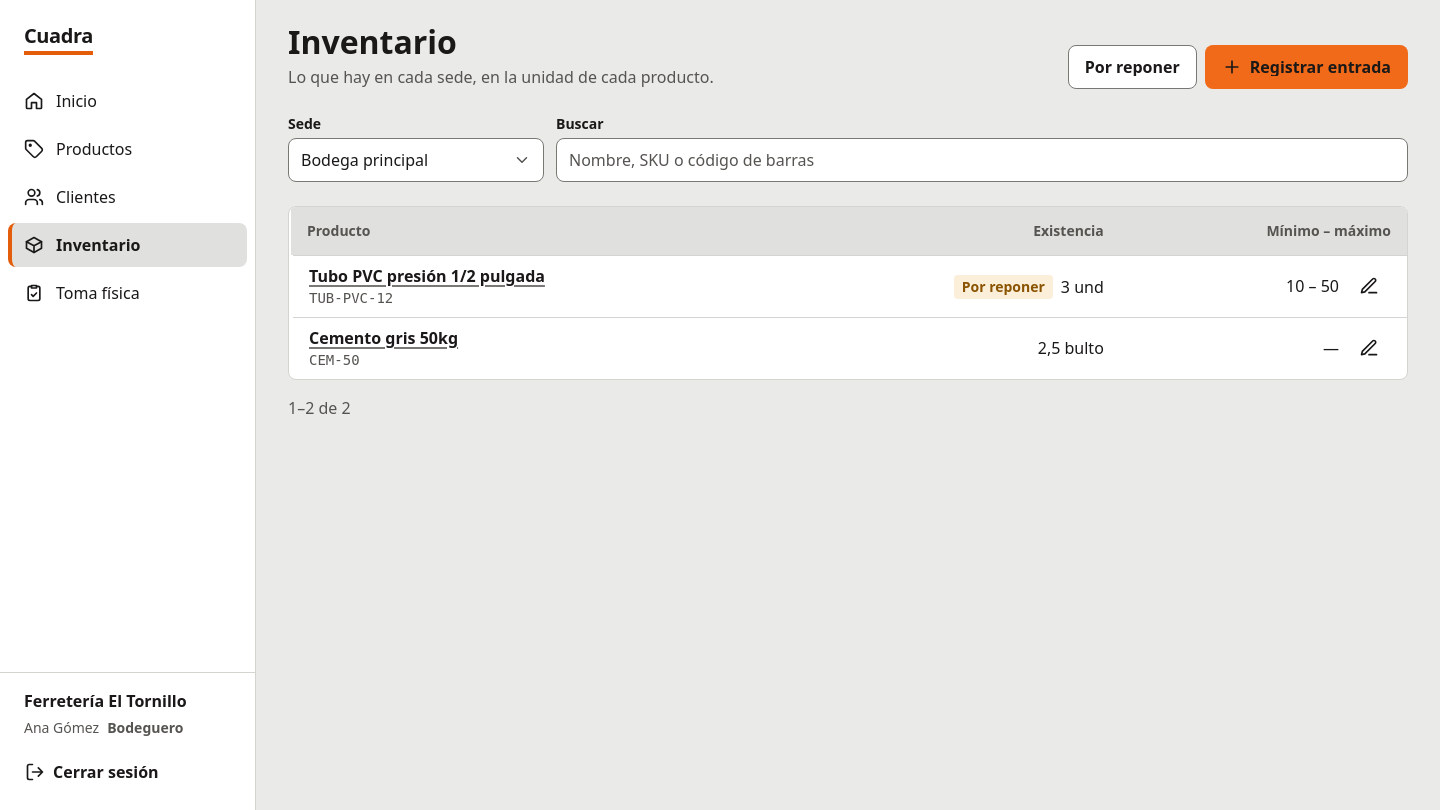
StockPage: stock mínimo y máximo › define el mínimo y el máximo de una variante con coma decimal
Click the button named "Mínimo y máximo de Cemento gris 50kg" at (1369, 348), box [1347, 326, 1391, 370]
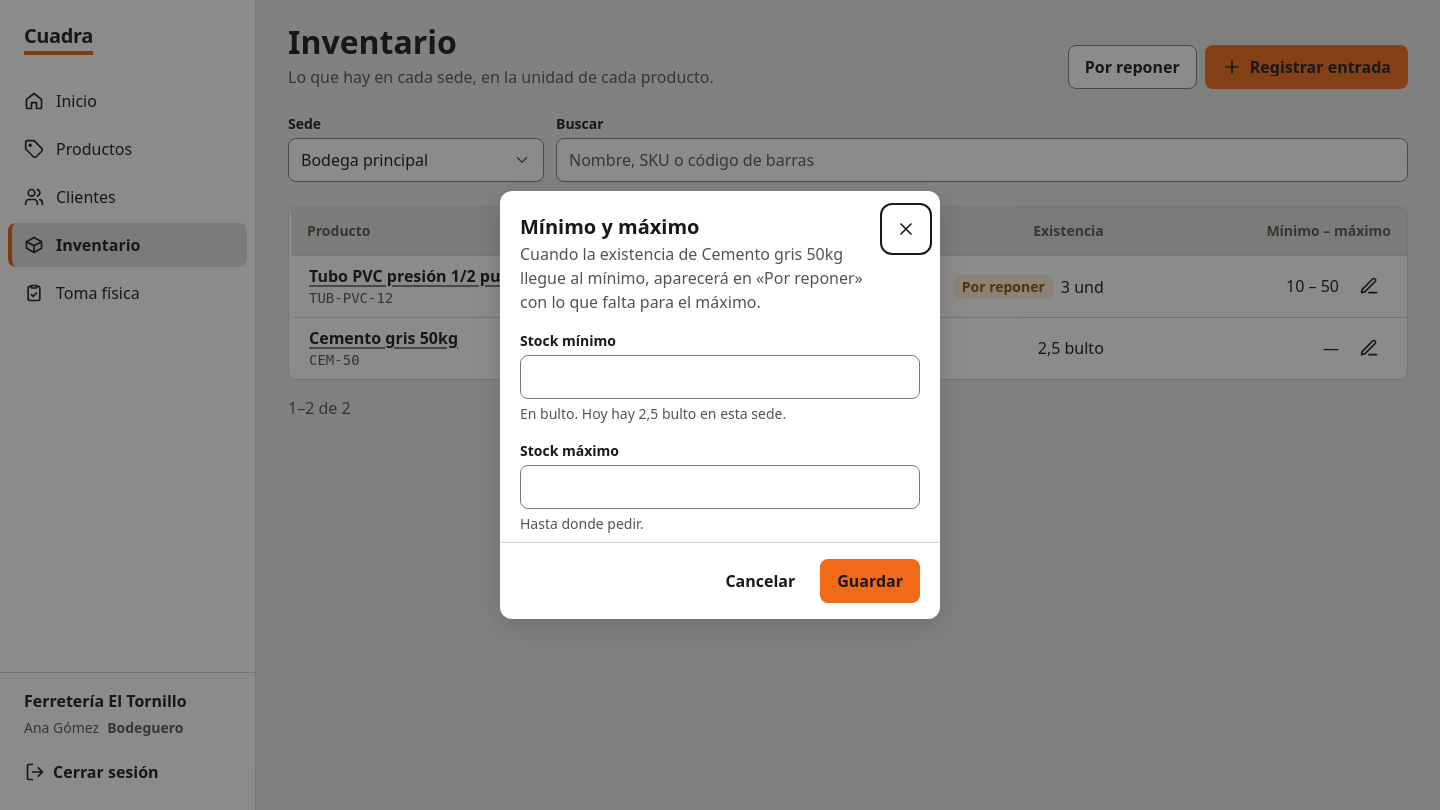
Type "5" into the field labelled "Stock mínimo" at (720, 377), box [520, 355, 920, 399]
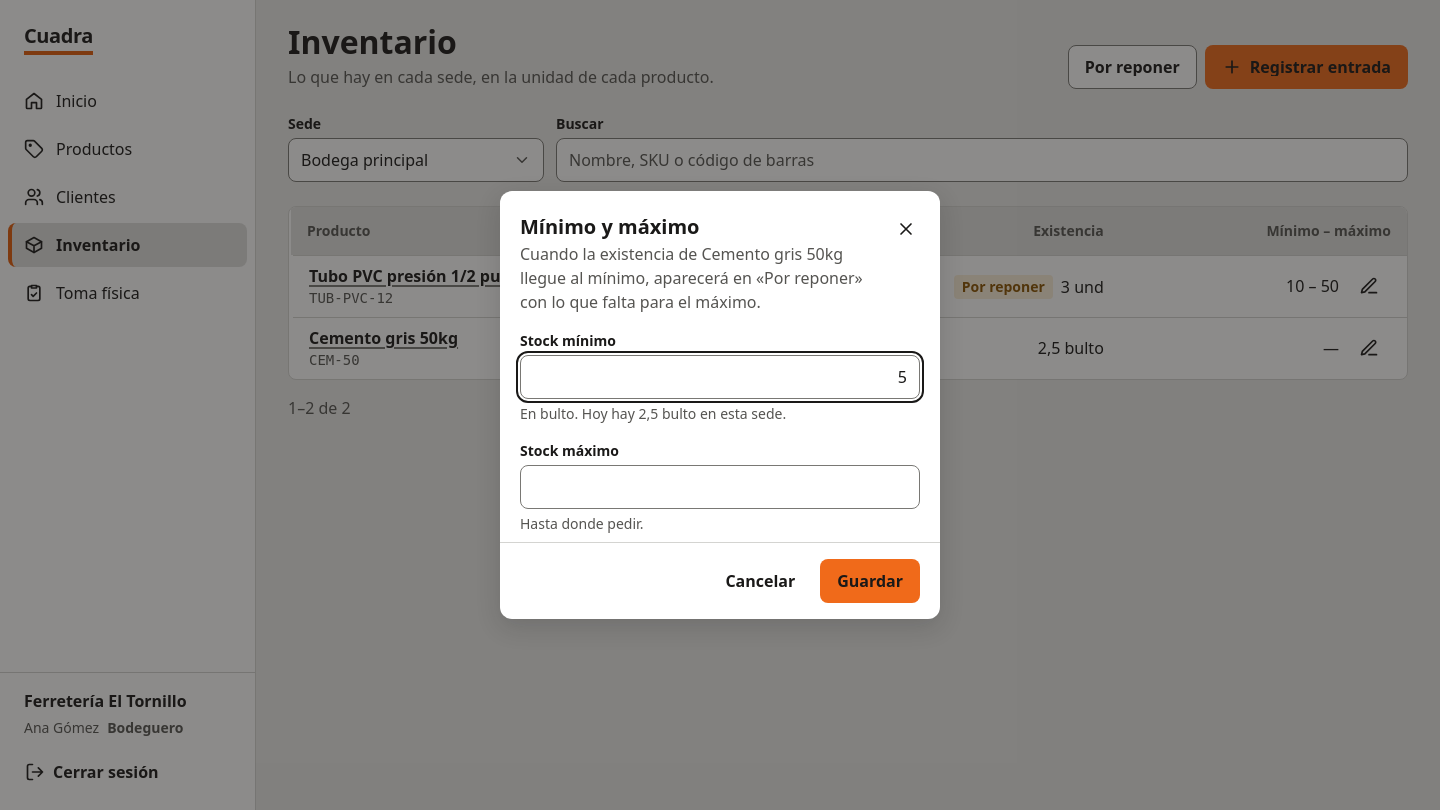
Type "12,5" into the field labelled "Stock máximo" at (720, 487), box [520, 465, 920, 509]
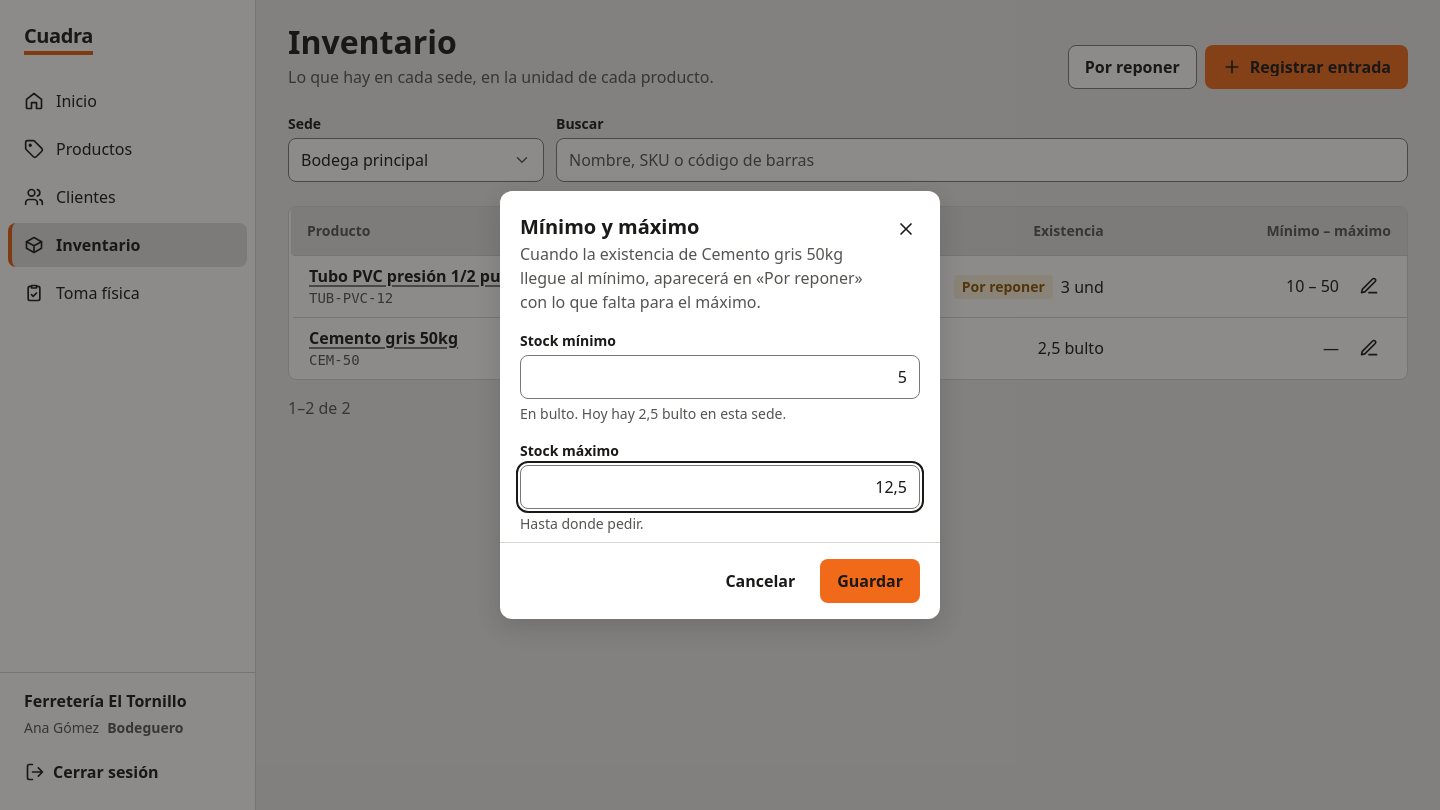
Click the button "Guardar" at (870, 581), box [820, 559, 920, 603]
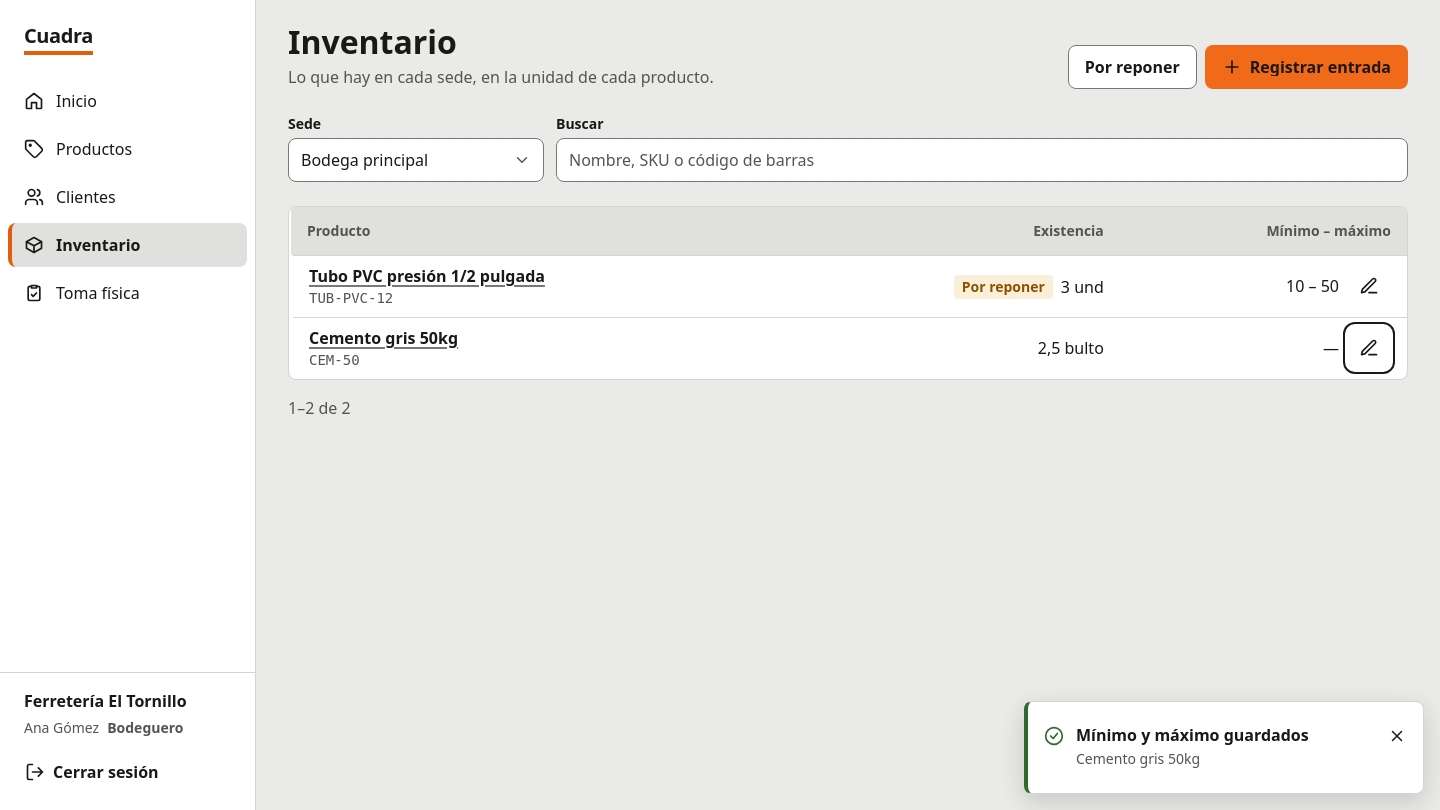
Check: the dialog is gone
